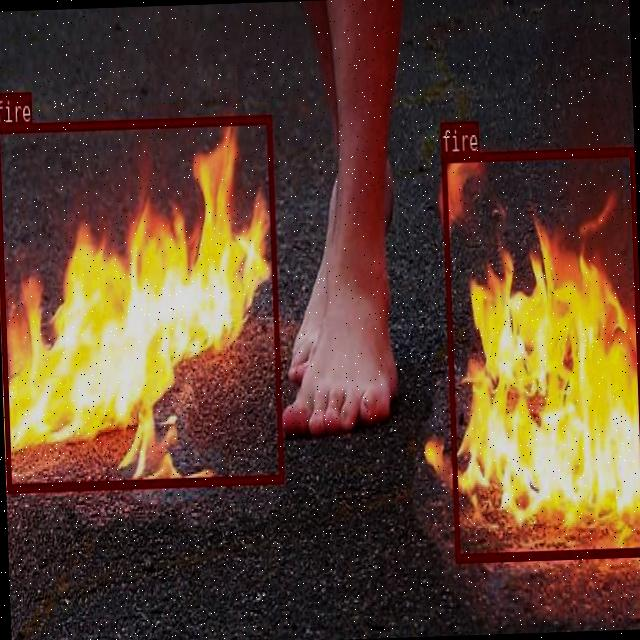fire: (0, 113, 283, 490), (441, 146, 640, 559)
